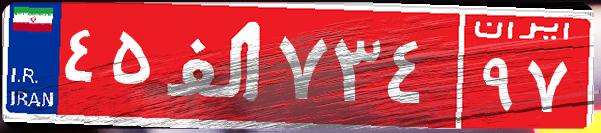3: (330, 28, 385, 110)
4: (385, 28, 445, 110), (57, 26, 110, 107)
5: (110, 28, 158, 105)
7: (273, 28, 330, 110), (525, 38, 570, 115)
9: (475, 38, 525, 113)
الف: (158, 15, 273, 115)
